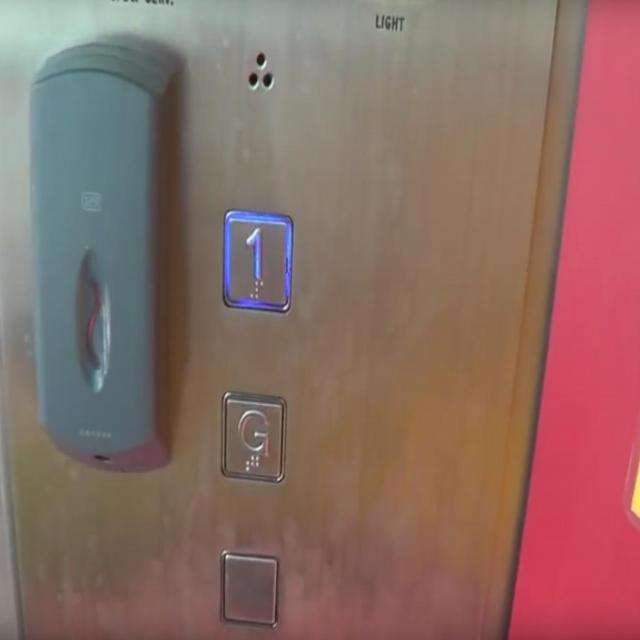1: (222, 207, 294, 316)
G: (220, 387, 288, 489)
empty: (217, 546, 281, 632)
